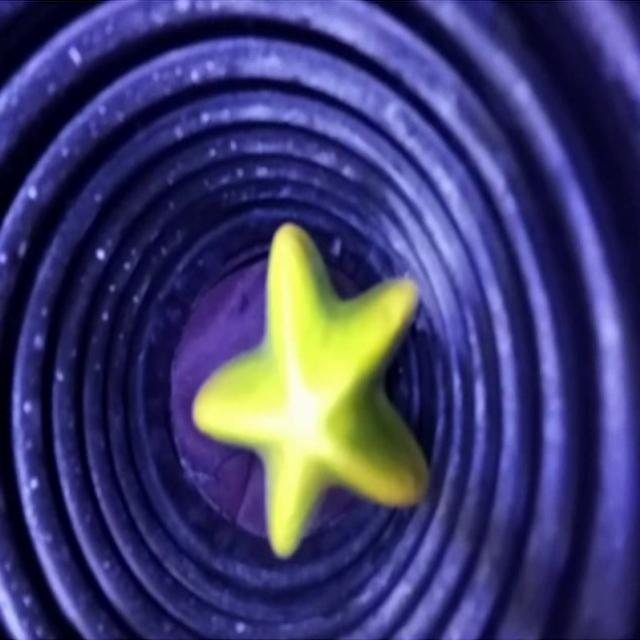obstacles: (187, 228, 426, 556)
